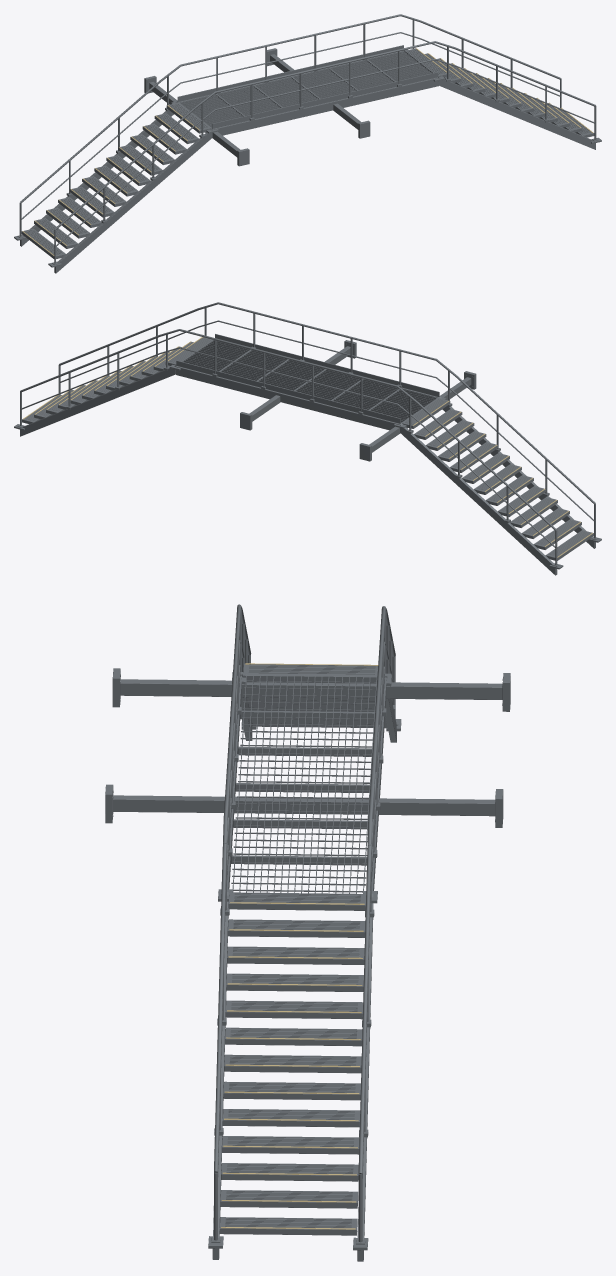
Rendered from BD_T02_UpperWalk_LOD1.fbx.
3 views of the same model, one above another, from view 1: azimuth 30°, elevation 25°; view 2: azimuth 150°, elevation 25°; view 3: azimuth 270°, elevation 25° (orthographic). The views are drawn at different scales.
Parts seen in each view (by area): view 1: BD_T02_UpperWalk_LOD1; view 2: BD_T02_UpperWalk_LOD1; view 3: BD_T02_UpperWalk_LOD1.
Part boxes in pixels (left/top/right/bottom): BD_T02_UpperWalk_LOD1: left=14, top=14, right=601, bottom=273; BD_T02_UpperWalk_LOD1: left=14, top=302, right=601, bottom=575; BD_T02_UpperWalk_LOD1: left=105, top=604, right=510, bottom=1261.
Bounding box in the file's own units: 1370 × 350 × 443.
